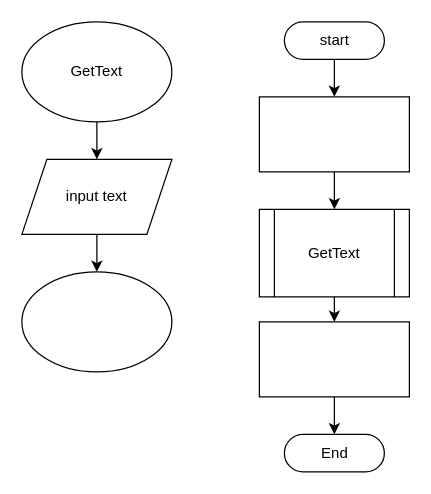
Some shapes in this 431 by 494 pixel diagram are drawn without their labels. Here are the shapes that lost their labels. From the top down, the centre of each, then its label:
At (333,134): "text[50]".
At (96,321): "text".
At (333,359): "output text".
